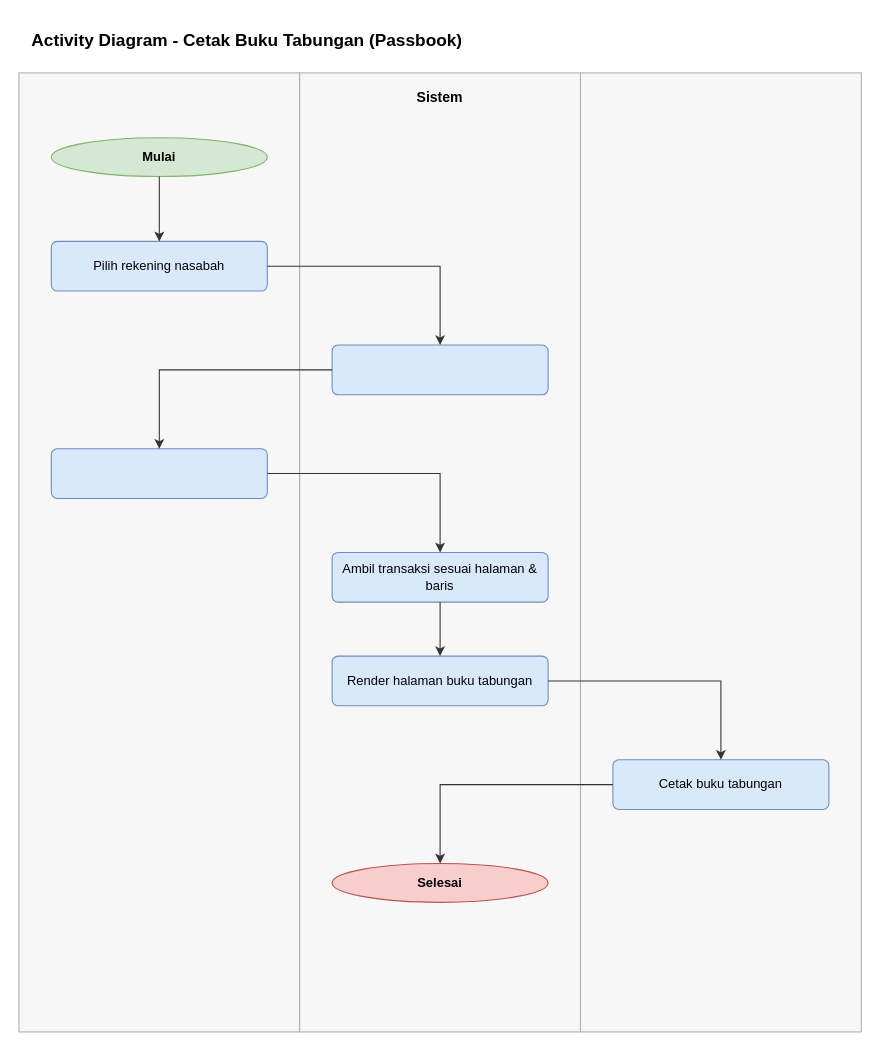
Image size: 880x1051. Some labels were removed from this diagram. The shapes that lost their labels are listed below. From the top down, each one's box as (x1, y1, x2, y2) in pixels, then its label:
(331, 344, 548, 395): Tampilkan transaksi sukses (paginasi)
(50, 448, 267, 498): Pilih baris awal (1-20)
(18, 72, 300, 1032): Teller
(579, 72, 861, 1032): Printer
